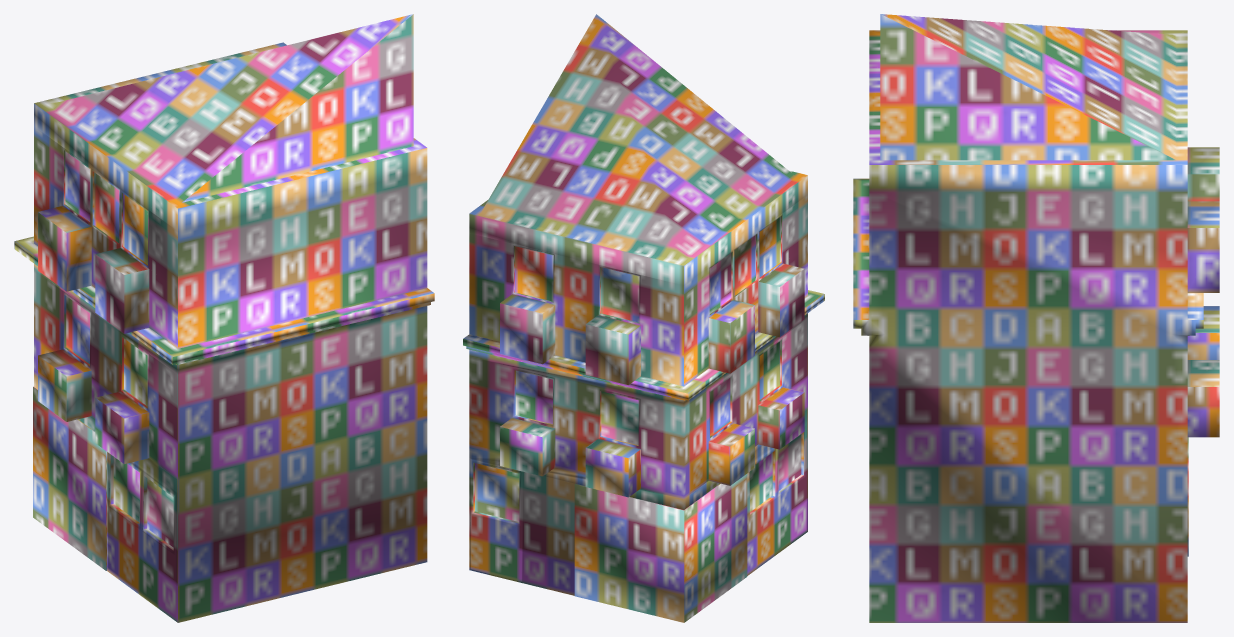
File: corner_building_02.obj
The picture shows the model from 3 angles, left to right: view 1: azimuth 30°, elevation 25°; view 2: azimuth 150°, elevation 25°; view 3: azimuth 270°, elevation 25°; orthographic projection. The views are drawn at different scales.
Parts seen in each view (by area): view 1: Cube2; view 2: Cube2; view 3: Cube2.
Part boxes in pixels (x1,y1,x2,y2): Cube2: (14,14,434,622); Cube2: (463,14,824,622); Cube2: (853,14,1219,622).
Bounding box in the file's own units: 11 × 20.94 × 11.5.
Materials: 1 (1 with a texture image).
